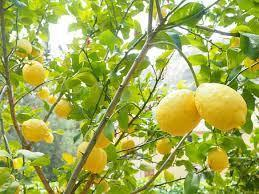lemon: (194, 82, 248, 130), (154, 88, 201, 137), (230, 37, 259, 71), (21, 119, 53, 144), (77, 141, 97, 169), (87, 147, 107, 174), (23, 60, 44, 84), (208, 147, 228, 171), (98, 125, 113, 148), (14, 39, 32, 57), (120, 114, 136, 133), (55, 98, 71, 117), (156, 138, 171, 154), (123, 140, 135, 154), (38, 87, 49, 99), (31, 48, 42, 56)
